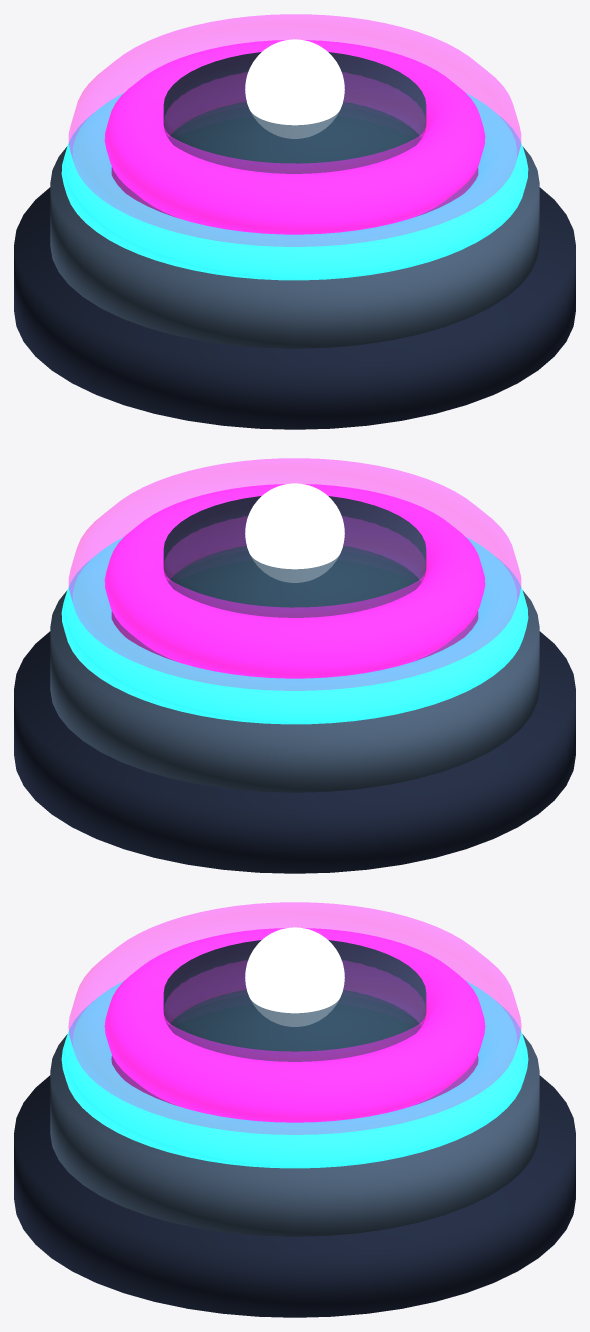
Rendered from bumper.glb.
3 views of the same model, one above another, from view 1: azimuth 30°, elevation 25°; view 2: azimuth 150°, elevation 25°; view 3: azimuth 270°, elevation 25° (orthographic).
Visible parts, largest first — view 1: Bumper_Glow, Bumper_Base, Bumper_PinkCrown, Bumper_Chrome, Bumper_CyanRing, Bumper_Cap, Bumper_Light; view 2: Bumper_Glow, Bumper_Base, Bumper_PinkCrown, Bumper_Chrome, Bumper_CyanRing, Bumper_Cap, Bumper_Light; view 3: Bumper_Glow, Bumper_Base, Bumper_PinkCrown, Bumper_Chrome, Bumper_CyanRing, Bumper_Cap, Bumper_Light.
Part boxes in pixels (box(x1,y1,x2,y2)): Bumper_Glow: box(68, 14, 521, 246); Bumper_Base: box(14, 187, 575, 429); Bumper_PinkCrown: box(104, 40, 485, 234); Bumper_Chrome: box(50, 136, 539, 348); Bumper_CyanRing: box(61, 92, 528, 280); Bumper_Cap: box(163, 52, 426, 173); Bumper_Light: box(245, 39, 344, 138); Bumper_Glow: box(68, 458, 521, 690); Bumper_Base: box(14, 631, 575, 873); Bumper_PinkCrown: box(104, 484, 485, 678); Bumper_Chrome: box(50, 580, 539, 792); Bumper_CyanRing: box(61, 536, 528, 724); Bumper_Cap: box(163, 496, 426, 617); Bumper_Light: box(245, 483, 344, 582); Bumper_Glow: box(68, 902, 521, 1134); Bumper_Base: box(14, 1075, 575, 1317); Bumper_PinkCrown: box(104, 928, 485, 1122); Bumper_Chrome: box(50, 1024, 539, 1236); Bumper_CyanRing: box(61, 980, 528, 1168); Bumper_Cap: box(163, 940, 426, 1061); Bumper_Light: box(245, 927, 344, 1026).
Size of the model in its own units: 1.24 by 0.65 by 1.24.
